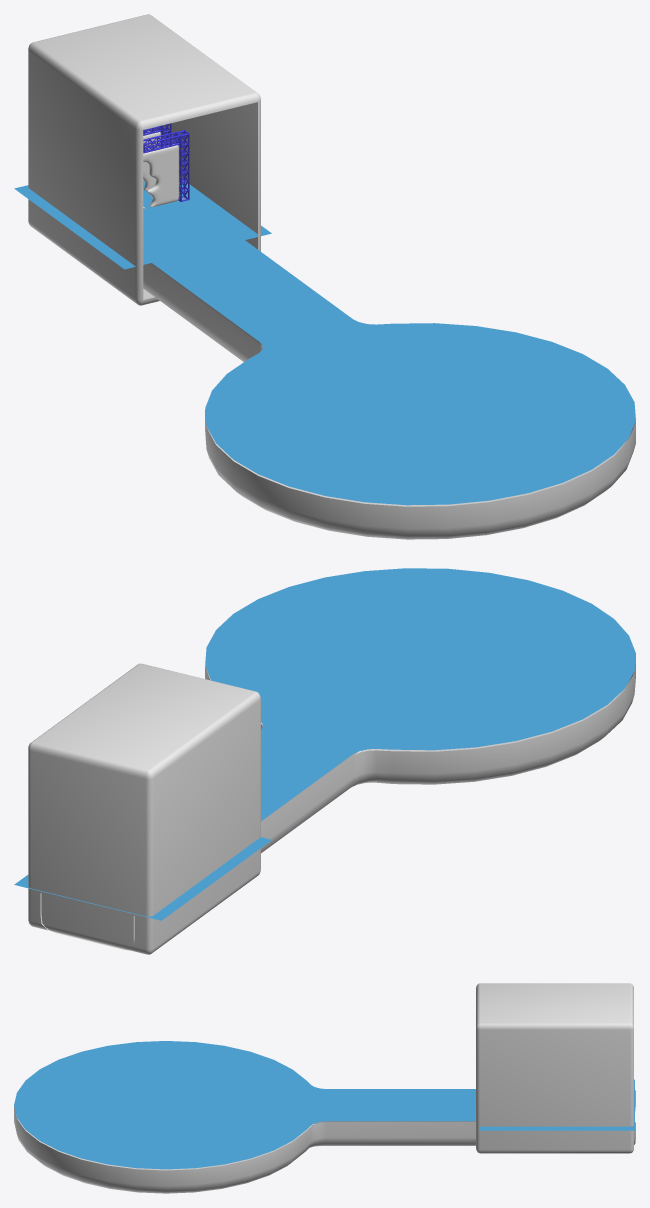
Rendered from Geo_Opera_Backstage.fbx.
The picture shows the model from 3 angles, top to bottom: view 1: azimuth 30°, elevation 25°; view 2: azimuth 150°, elevation 25°; view 3: azimuth 270°, elevation 25°; orthographic projection. The views are drawn at different scales.
Parts seen in each view (by area): view 1: Geo_Geo_Water_Surface_Foam, Geo_Backstage, Geo_Geo_Opera_Pool, Geo_Wall_Backstage.002; view 2: Geo_Geo_Water_Surface_Foam, Geo_Backstage, Geo_Geo_Opera_Pool; view 3: Geo_Geo_Water_Surface_Foam, Geo_Backstage, Geo_Geo_Opera_Pool, Geo_Railings.
Boxes of the visible parts, x1,y1,x2,y2 form: Geo_Geo_Water_Surface_Foam: (14, 177, 635, 505); Geo_Backstage: (28, 14, 260, 305); Geo_Geo_Opera_Pool: (143, 263, 635, 539); Geo_Wall_Backstage.002: (143, 123, 189, 208); Geo_Geo_Water_Surface_Foam: (14, 568, 635, 920); Geo_Backstage: (28, 663, 260, 954); Geo_Geo_Opera_Pool: (40, 655, 635, 950); Geo_Geo_Water_Surface_Foam: (14, 1041, 634, 1169); Geo_Backstage: (476, 983, 633, 1153); Geo_Geo_Opera_Pool: (14, 1090, 635, 1193); Geo_Railings: (311, 1121, 475, 1125).
Bounding box in the file's own units: 1498 × 709 × 3064.
